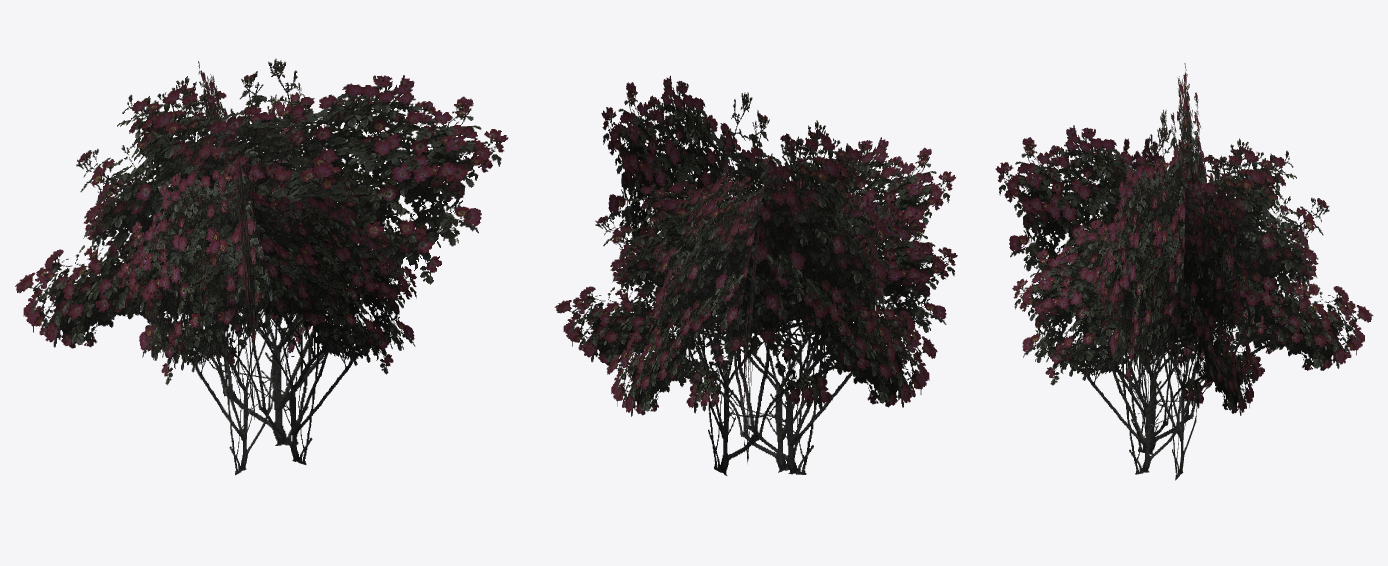
The model's file is fern_2.glb.
3 views of the same model, side by side, from view 1: azimuth 30°, elevation 25°; view 2: azimuth 150°, elevation 25°; view 3: azimuth 270°, elevation 25° (orthographic). The views are drawn at different scales.
Parts seen in each view (by area): view 1: fern_2; view 2: fern_2; view 3: fern_2.
Part boxes in pixels (x1,y1,x2,y2): fern_2: (15,58,508,475); fern_2: (554,75,957,475); fern_2: (995,63,1373,480).
Size of the model in its own units: 1.34 by 1.22 by 1.15.
Materials: 1 (1 with a texture image).
